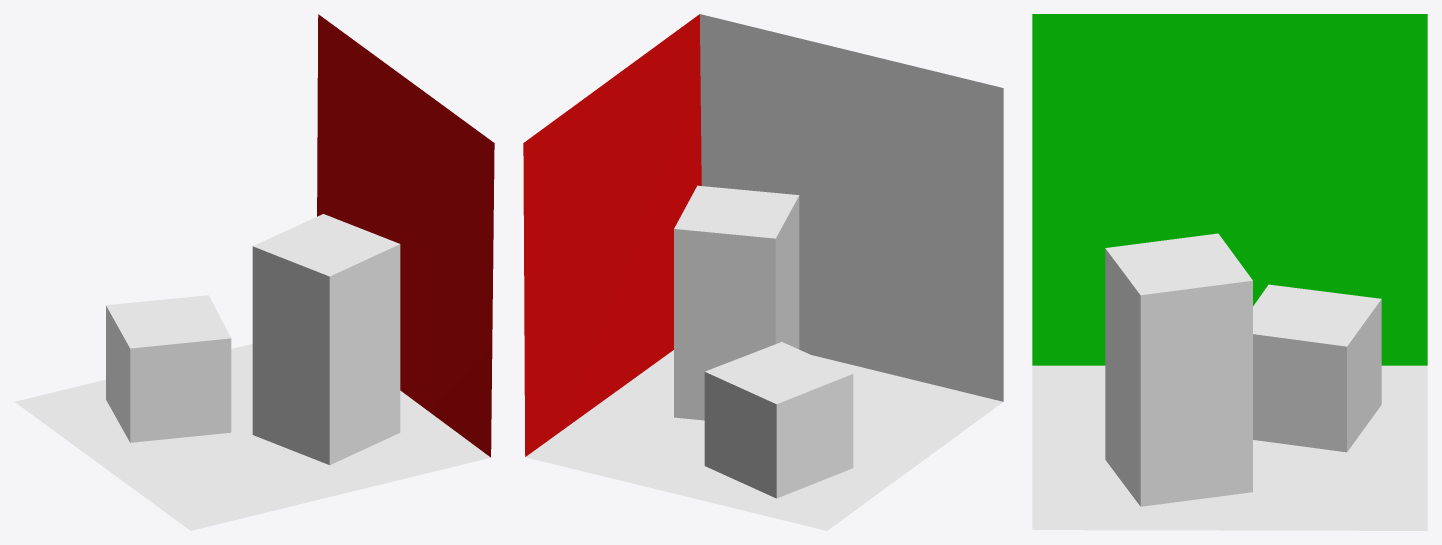
The model's file is cornell.glb.
3 views of the same model, side by side, from view 1: azimuth 30°, elevation 25°; view 2: azimuth 150°, elevation 25°; view 3: azimuth 270°, elevation 25° (orthographic). The views are drawn at different scales.
Parts seen in each view (by area): view 1: Object_5.002, Object_4, Object_5.001; view 2: Object_5.001, Object_4, Object_5.002; view 3: Object_5, Object_5.002, Object_5.001.
Part boxes in pixels (left/top/right/bottom): Object_5.002: left=106, top=214, right=400, bottom=465; Object_4: left=317, top=14, right=494, bottom=457; Object_5.001: left=15, top=344, right=490, bottom=530; Object_5.001: left=525, top=14, right=1003, bottom=530; Object_4: left=523, top=14, right=701, bottom=456; Object_5.002: left=674, top=185, right=853, bottom=498; Object_5: left=1032, top=14, right=1427, bottom=365; Object_5.002: left=1105, top=233, right=1381, bottom=506; Object_5.001: left=1032, top=365, right=1427, bottom=530.
Size of what is drawn, in the model's own units: 2.56 by 2.52 by 2.57.
